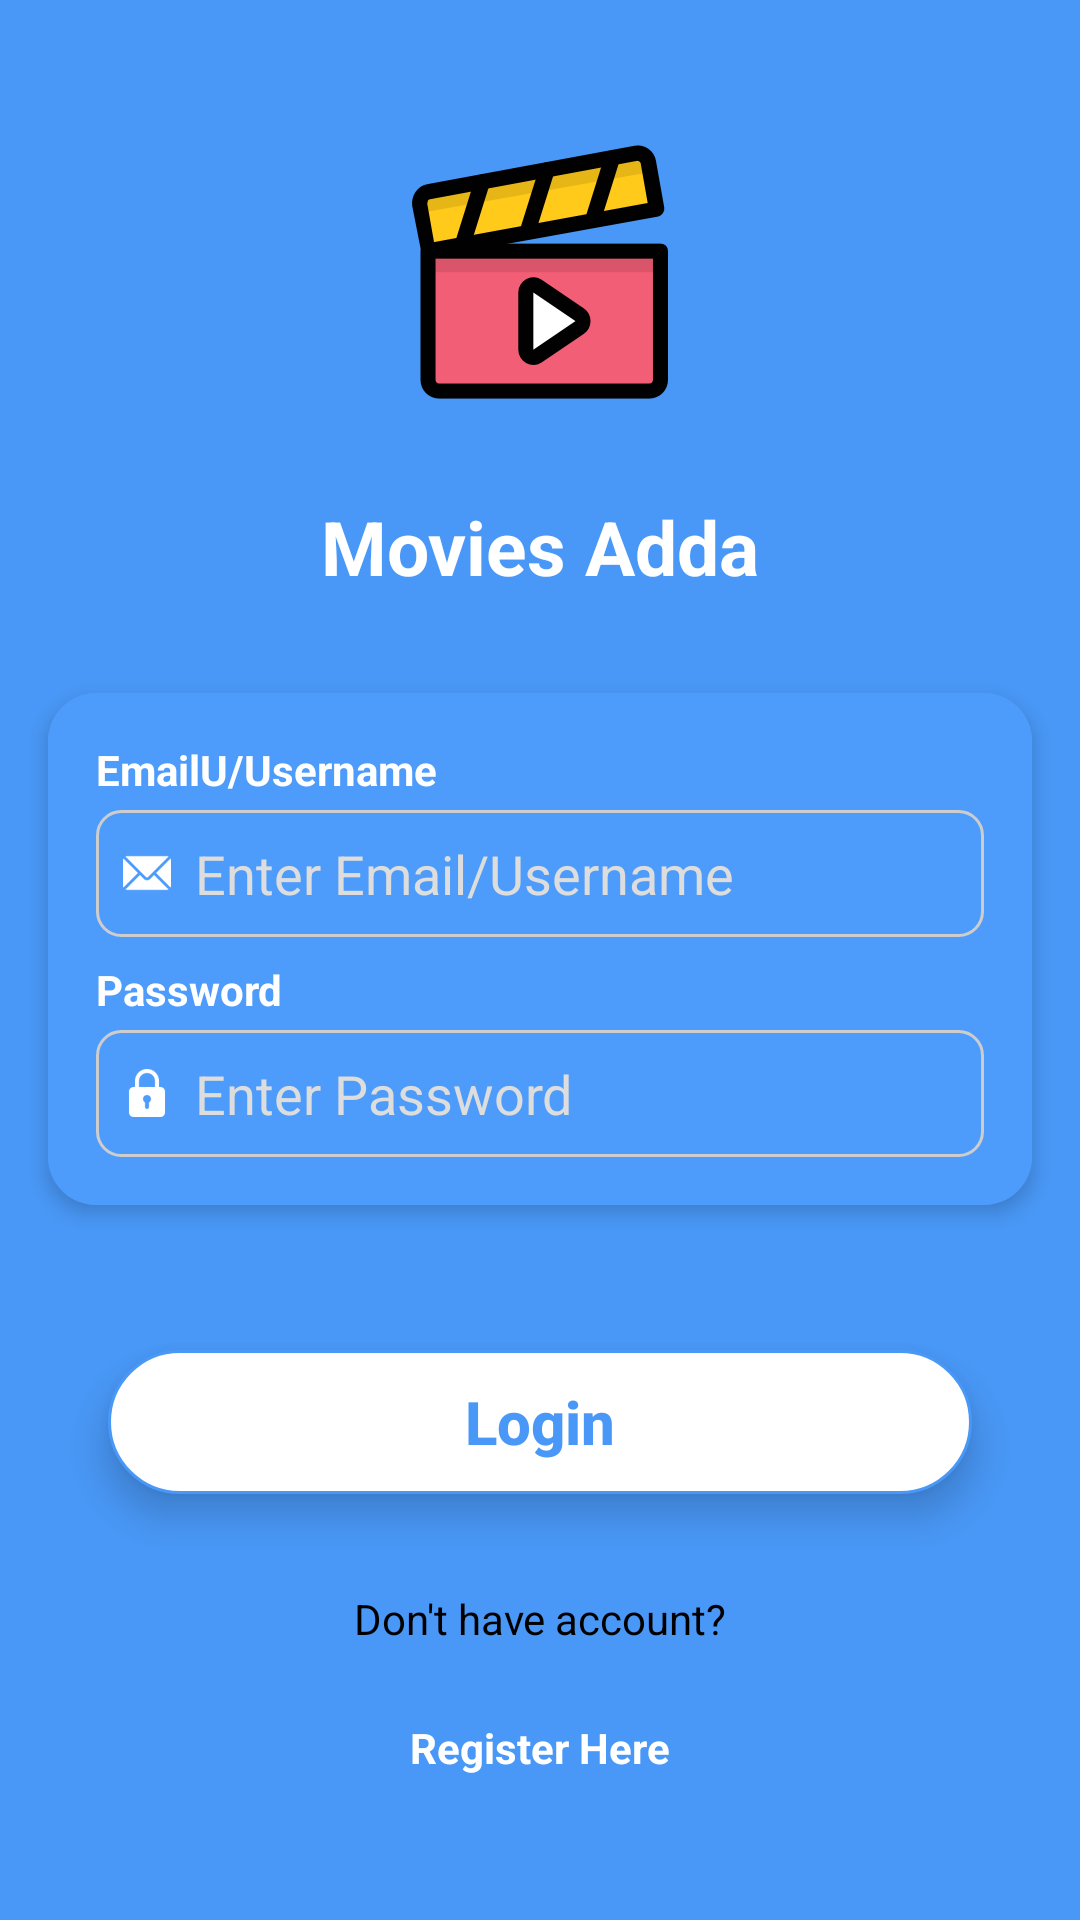

Icon bounding boxes for this 1080px x 1920px phone screenshot, format (x1, y1, x2, y2):
video player: (412, 145, 668, 399)
